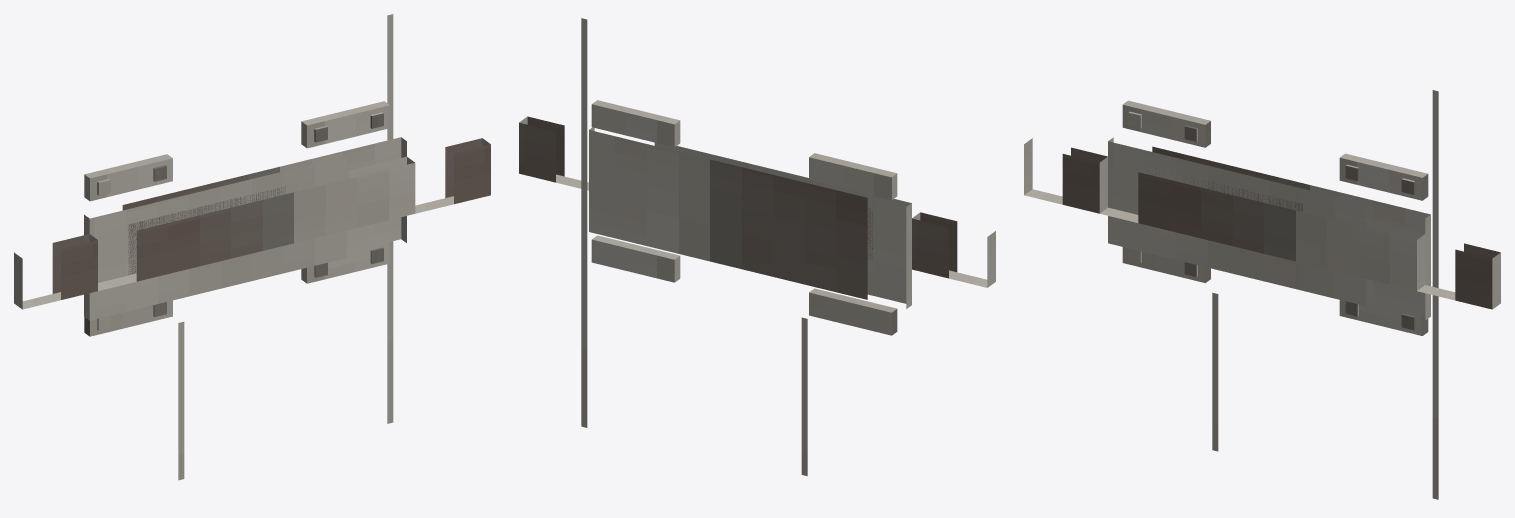
3 views of the same model, side by side, from view 1: azimuth 30°, elevation 25°; view 2: azimuth 150°, elevation 25°; view 3: azimuth 330°, elevation 25° (orthographic).
Size of the model in its own units: 1.2 by 1 by 0.0969.
